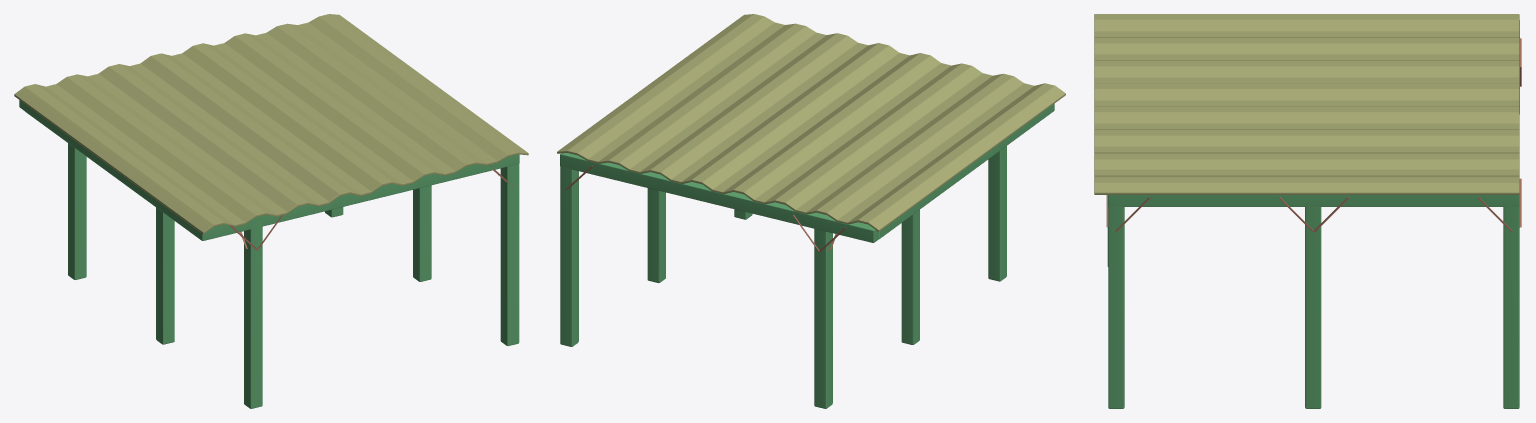
Rendered from storage_outdoor_high.fbx.
3 views of the same model, side by side, from view 1: azimuth 30°, elevation 25°; view 2: azimuth 150°, elevation 25°; view 3: azimuth 270°, elevation 25° (orthographic). The views are drawn at different scales.
Parts seen in each view (by area): view 1: group3; view 2: group3; view 3: group3.
Part boxes in pixels (box(x1,y1,x2,y2)): group3: box(14, 14, 528, 408); group3: box(557, 14, 1065, 408); group3: box(1094, 14, 1521, 408).
Bounding box in the file's own units: 634 × 372 × 641.
